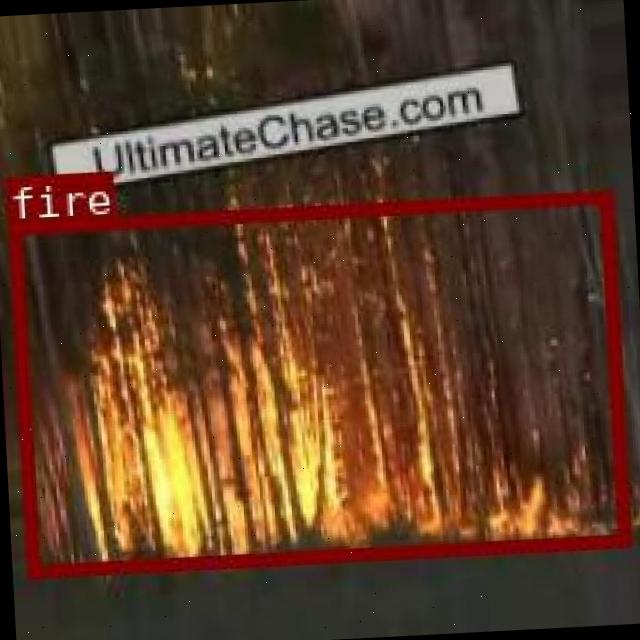fire: (8, 190, 628, 574)
